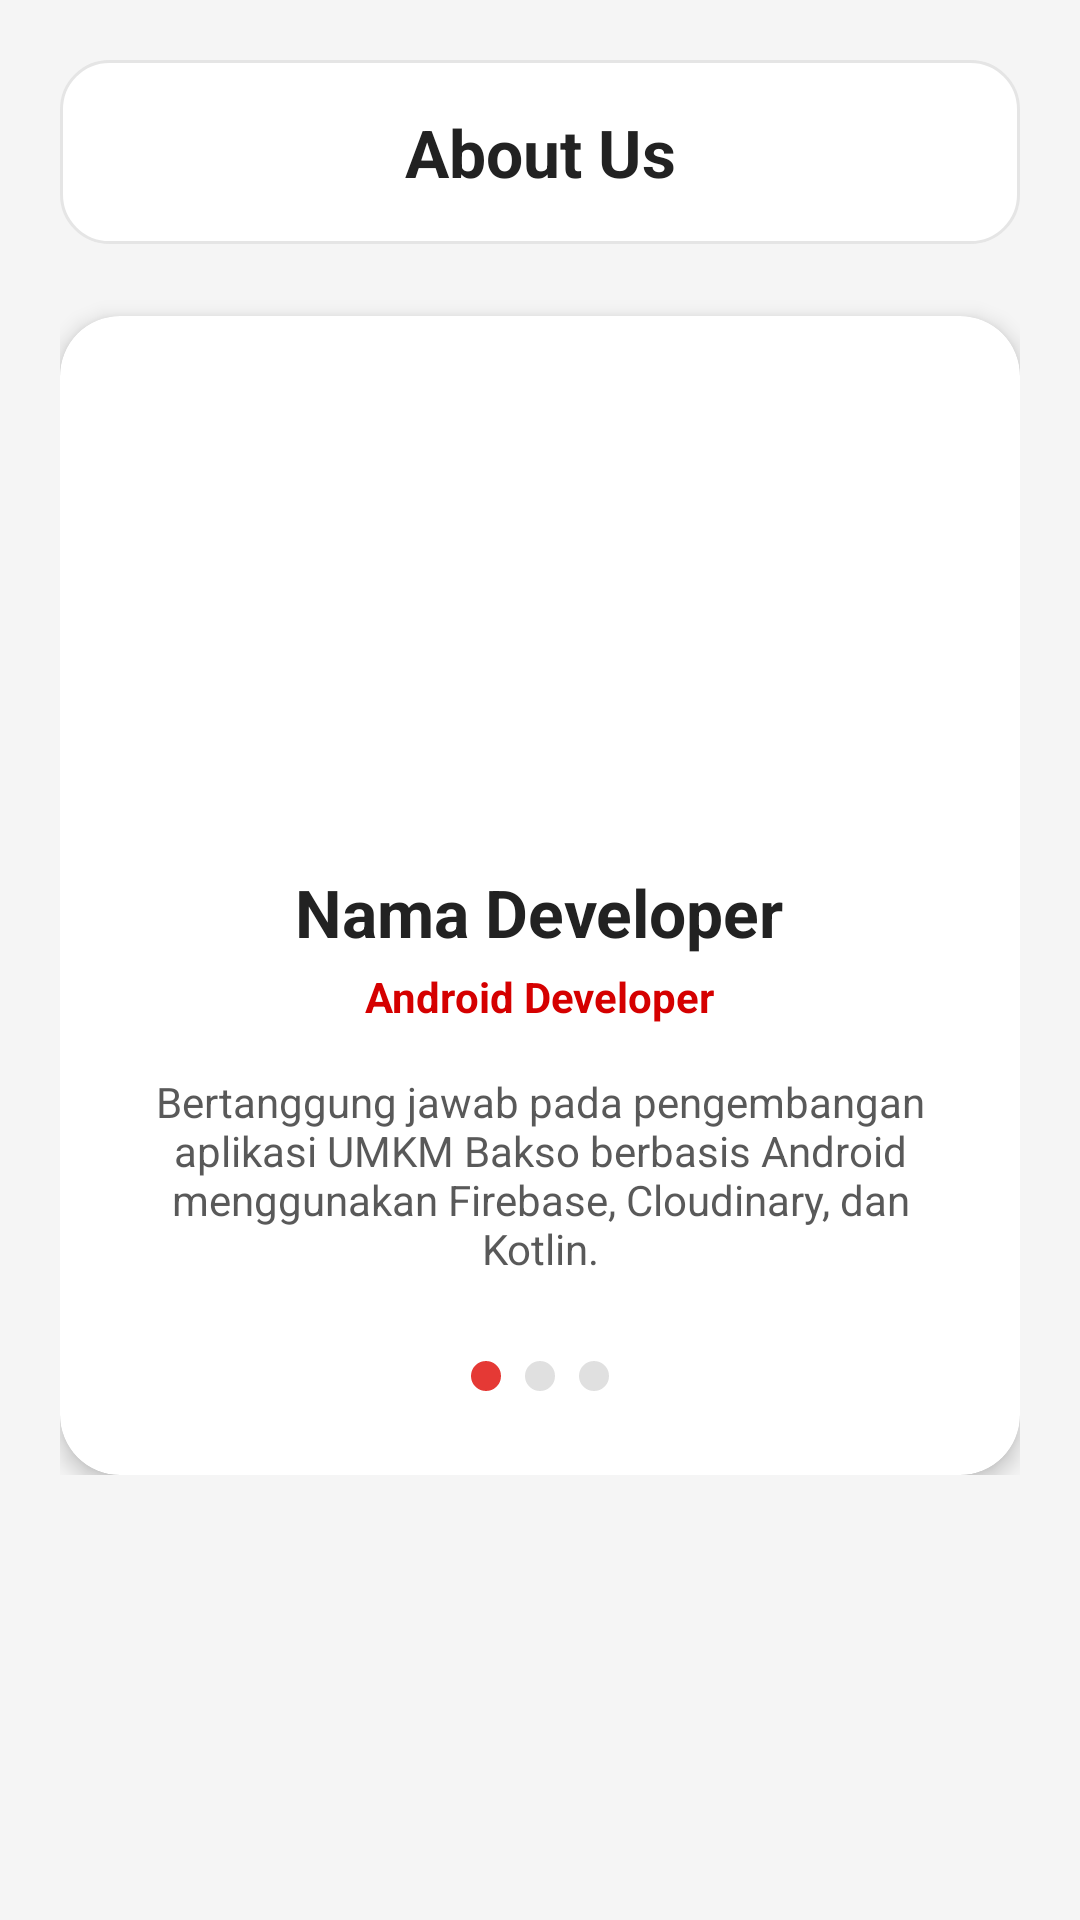

Icons on this 1080x1920 Android screen, each with its box as (x1, y1, x2, y2):
dot indicator: (471, 1361, 501, 1391)
